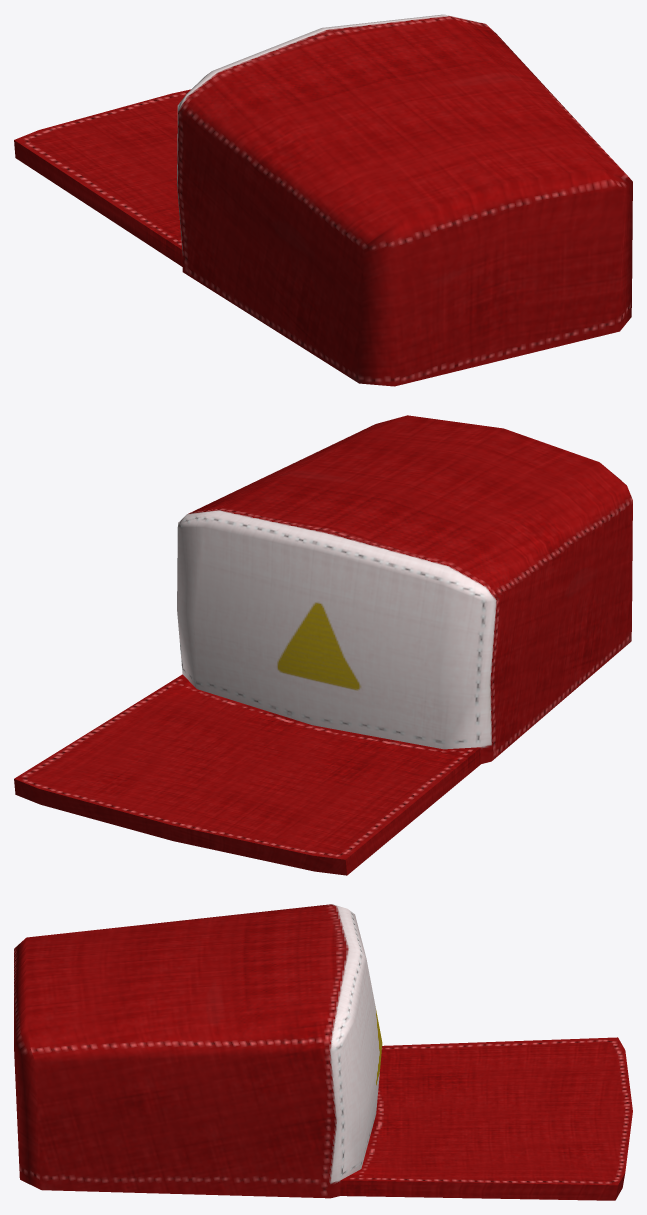
The model's file is Props_Cap.fbx.
3 views of the same model, one above another, from view 1: azimuth 30°, elevation 25°; view 2: azimuth 150°, elevation 25°; view 3: azimuth 270°, elevation 25° (orthographic). The views are drawn at different scales.
Visible parts, largest first — view 1: Cap; view 2: Cap; view 3: Cap.
Boxes of the visible parts, x1,y1,x2,y2 form: Cap: (14,14,632,386); Cap: (14,415,632,875); Cap: (14,904,632,1200).
Size of the model in its own units: 12.7 by 7.23 by 22.46.
